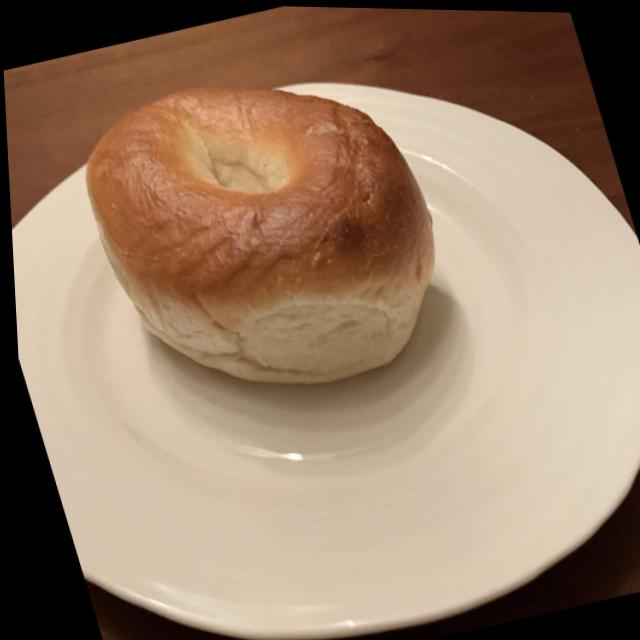Bagel: (85, 86, 431, 382)
